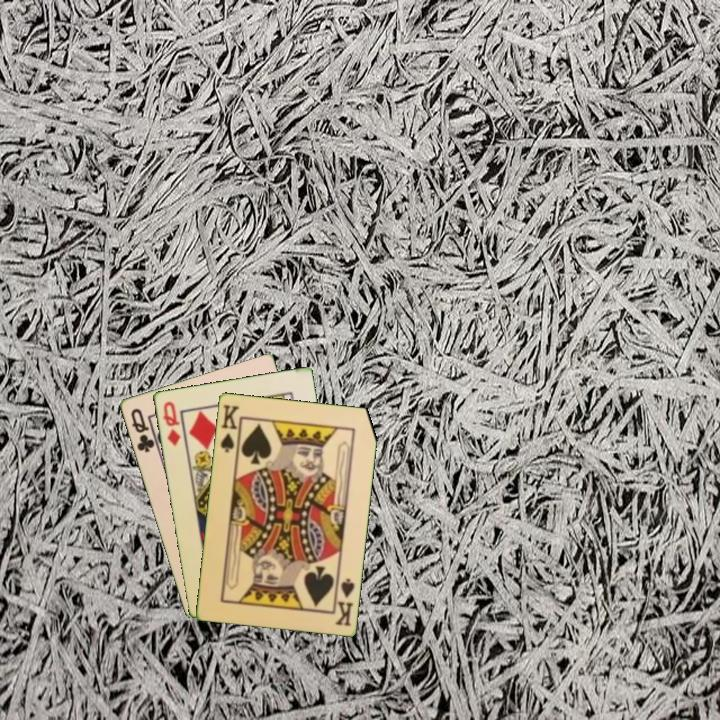Ks: (331, 572, 357, 629), (217, 401, 243, 456)
Qc: (127, 404, 157, 455)
Qd: (159, 397, 183, 448)
